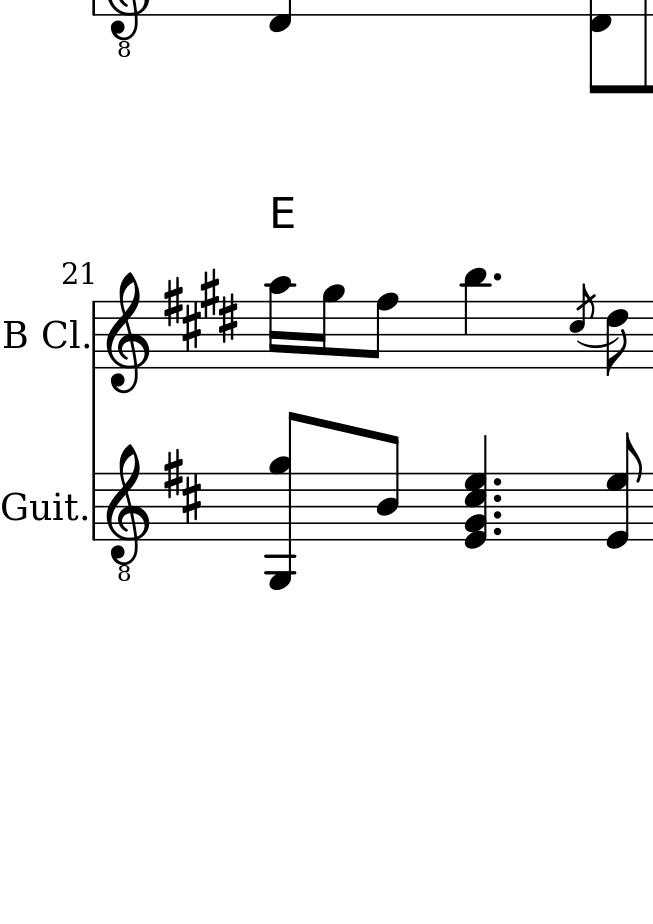1: (80, 260, 94, 288)
16_10: (266, 275, 294, 370)
2: (61, 260, 77, 285)
4_11: (460, 266, 488, 371)
4_4th: (464, 432, 490, 550)
8_-5_9: (265, 408, 304, 593)
8_0_7: (603, 431, 644, 551)
8_4: (375, 432, 404, 543)
8_6: (604, 299, 628, 376)
8_8: (361, 291, 396, 369)
8_9: (310, 283, 346, 370)
Acciaccature: (565, 282, 596, 370)
Cl: (41, 319, 82, 354)
D_S: (162, 449, 202, 523)
E_S: (162, 268, 240, 352)
Gclef: (106, 272, 151, 394)
Guit: (1, 486, 81, 529)
Lower_Gclef: (106, 444, 150, 584)
Single_barline: (88, 301, 101, 371), (88, 473, 100, 542)
Slur: (575, 338, 618, 349)
dot: (490, 524, 504, 540), (491, 270, 504, 285), (492, 491, 504, 505), (491, 475, 503, 488), (491, 508, 502, 521)
